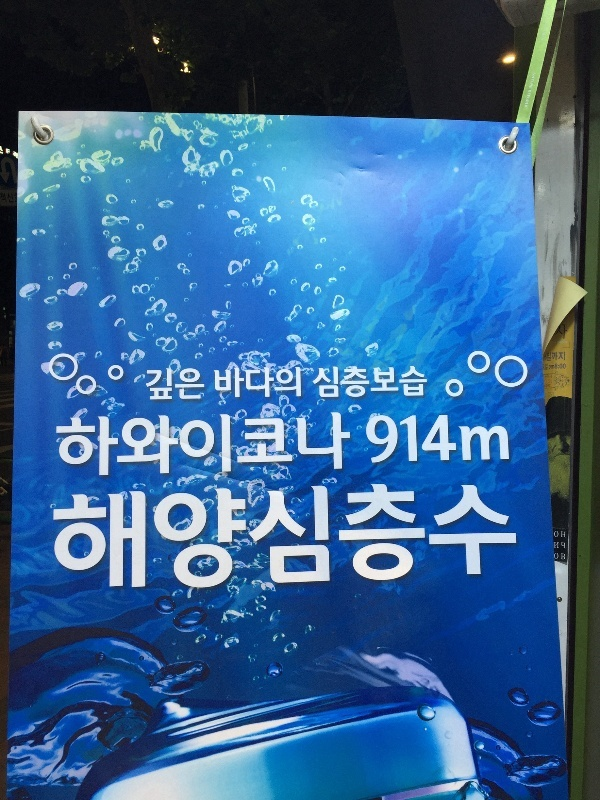text: (65, 483, 80, 595), (81, 483, 96, 595), (97, 483, 112, 595), (113, 483, 128, 595), (129, 483, 144, 595), (145, 483, 160, 595), (161, 483, 176, 595), (177, 483, 192, 595), (193, 483, 208, 595), (209, 483, 224, 595), (225, 483, 240, 595), (241, 483, 256, 595), (257, 483, 272, 595), (273, 483, 288, 595), (289, 483, 304, 595), (305, 483, 320, 595), (321, 483, 336, 595), (337, 483, 352, 595), (353, 483, 368, 595), (369, 483, 384, 595), (385, 483, 400, 595), (401, 483, 416, 595), (417, 483, 432, 595), (433, 483, 448, 595), (449, 483, 464, 595), (465, 483, 480, 595), (481, 483, 496, 595), (497, 483, 512, 595), (53, 483, 64, 595), (65, 408, 80, 480), (81, 408, 96, 480), (97, 408, 112, 480), (113, 408, 128, 480), (129, 408, 144, 480), (145, 408, 160, 480), (161, 408, 176, 480), (177, 408, 192, 480), (193, 408, 208, 480), (209, 408, 224, 480), (225, 408, 240, 480), (241, 408, 256, 480), (257, 408, 272, 480), (273, 408, 288, 480), (289, 408, 304, 480), (305, 408, 320, 480), (321, 408, 336, 480), (337, 408, 352, 480), (369, 410, 384, 469), (385, 410, 400, 469), (401, 410, 416, 469), (417, 410, 432, 469), (433, 410, 448, 469), (449, 410, 464, 469), (465, 410, 480, 469), (481, 410, 496, 469), (497, 410, 512, 469), (513, 483, 520, 595), (54, 408, 64, 480), (321, 362, 336, 401), (337, 362, 352, 401), (353, 362, 368, 401), (369, 362, 384, 401), (385, 362, 400, 401), (401, 362, 416, 401), (161, 366, 176, 404), (177, 366, 192, 404), (225, 365, 240, 401), (241, 365, 256, 401), (257, 365, 272, 401), (273, 365, 288, 401), (146, 366, 160, 404), (289, 365, 302, 401), (193, 366, 205, 404), (417, 362, 428, 401), (214, 365, 224, 401), (315, 362, 320, 401), (547, 351, 560, 362), (561, 324, 568, 341), (549, 363, 560, 372), (554, 541, 560, 551), (367, 410, 368, 469), (561, 351, 566, 362), (554, 553, 560, 562), (561, 541, 566, 551), (554, 531, 560, 539), (561, 531, 567, 539), (561, 363, 566, 372), (561, 553, 566, 562), (545, 362, 549, 371), (559, 324, 560, 341), (543, 362, 544, 371)
